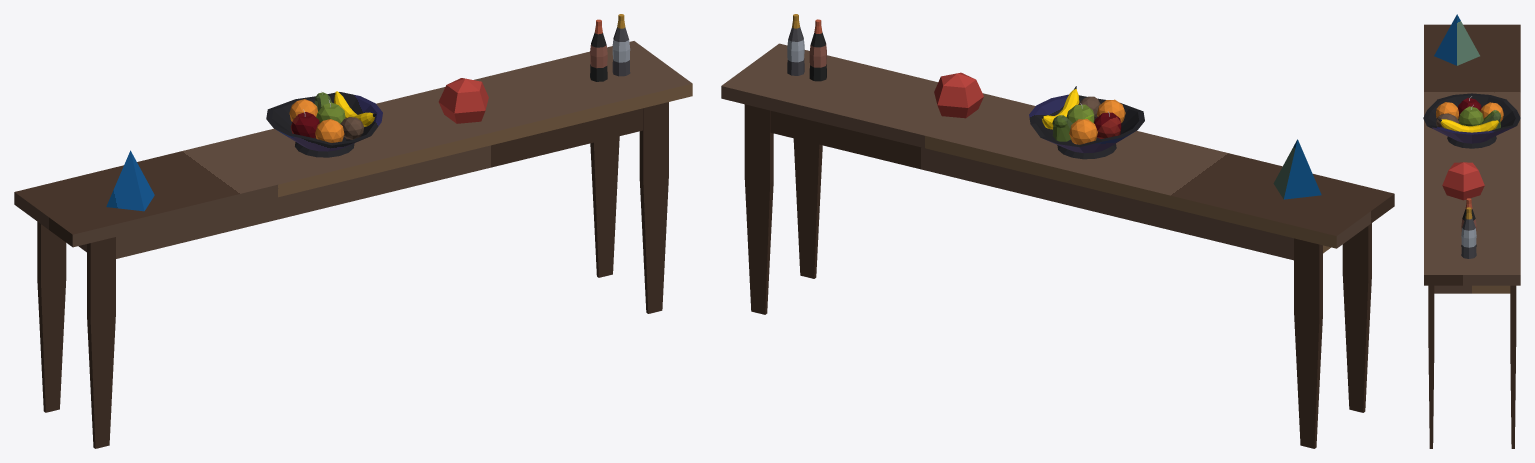
File: Accesories_Dinner_Table_C.glb
3 views of the same model, side by side, from view 1: azimuth 30°, elevation 25°; view 2: azimuth 150°, elevation 25°; view 3: azimuth 270°, elevation 25° (orthographic). The views are drawn at different scales.
Parts seen in each view (by area): view 1: Accesories_Dinner_Table_C; view 2: Accesories_Dinner_Table_C; view 3: Accesories_Dinner_Table_C.
Boxes of the visible parts, left/top/right/bottom form: Accesories_Dinner_Table_C: left=14, top=14, right=692, bottom=448; Accesories_Dinner_Table_C: left=721, top=14, right=1394, bottom=448; Accesories_Dinner_Table_C: left=1423, top=14, right=1520, bottom=448.
Size of the model in its own units: 3.07 by 1.34 by 0.5057.
Materials: 1 (1 with a texture image).
